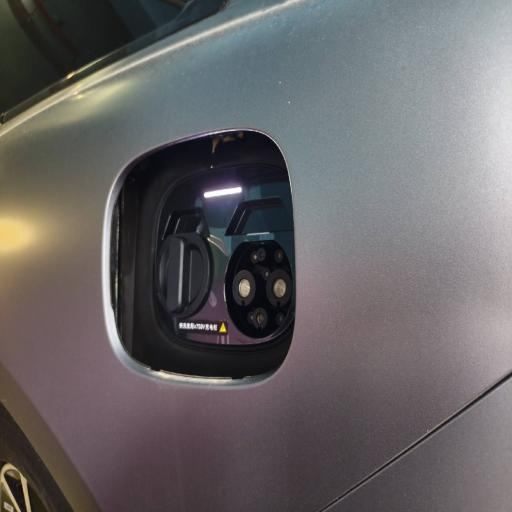DC_charging_port: (222, 239, 294, 341)
DC_hole: (265, 268, 293, 310), (232, 268, 258, 309)
PE: (252, 308, 269, 331)
